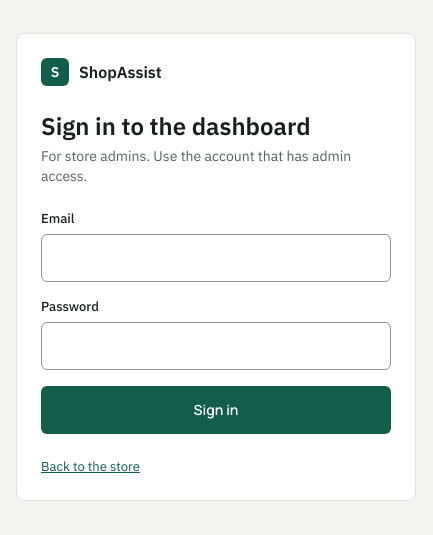
Test case: who gets in › a wrong password shows the error
Type "abraham@example.com" into the field labelled "Email" at (216, 258), box 41,234 -> 391,282
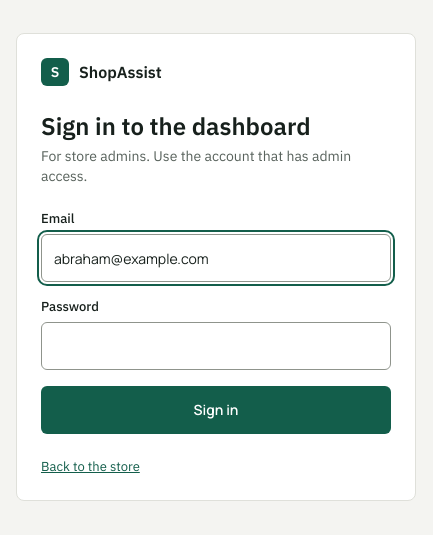
Type "wrong" into the password field labelled "Password" at (216, 346), box 41,322 -> 391,370
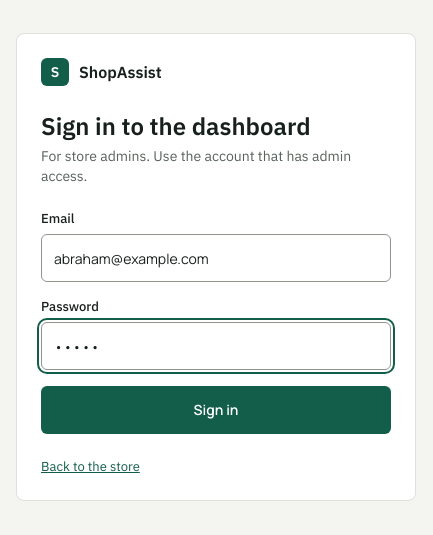
Click the button "Sign in" at (216, 410), box 41,386 -> 391,434
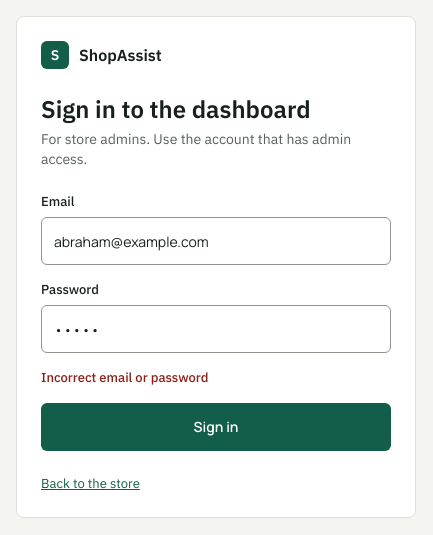
Expected: the message reads "Incorrect email or password", 41,369 -> 208,386
